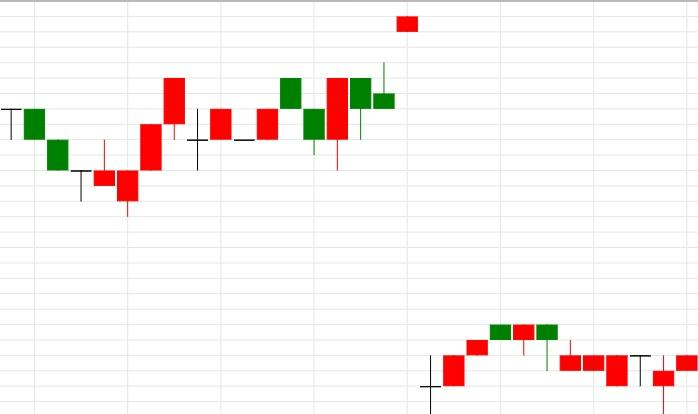hanging_man_fall: (419, 324, 559, 413)
three_white_soldiers_rise: (0, 76, 186, 216)
